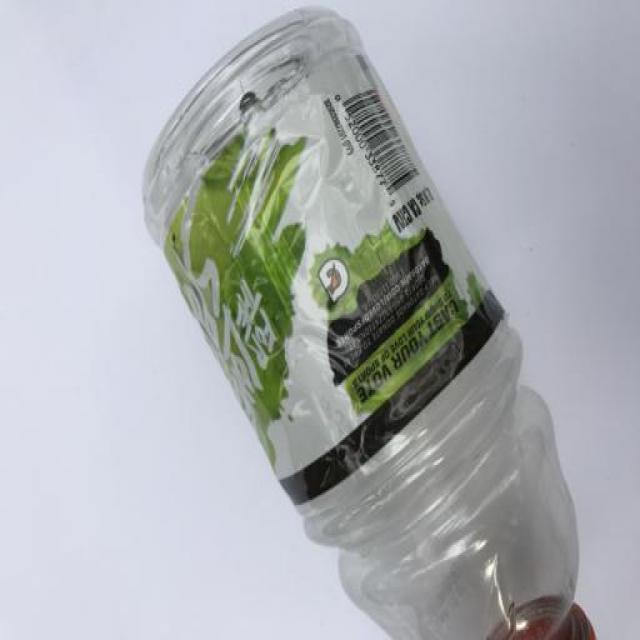plastic_bottle: (116, 4, 632, 640)
